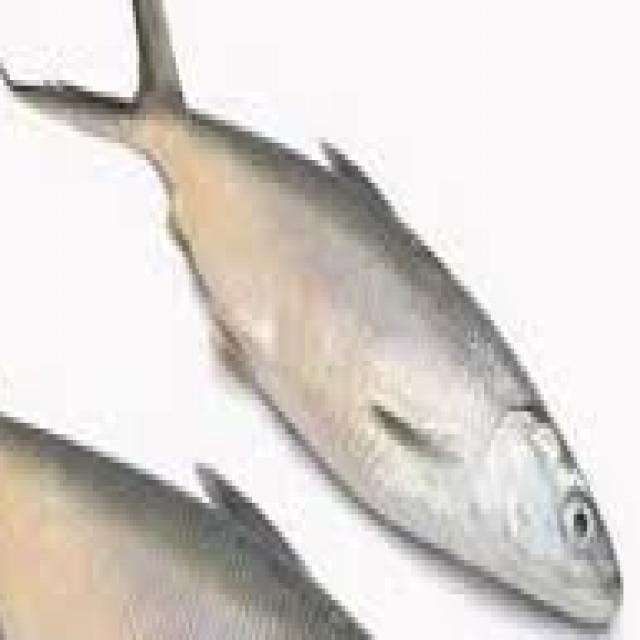fish: (1, 5, 637, 640)
